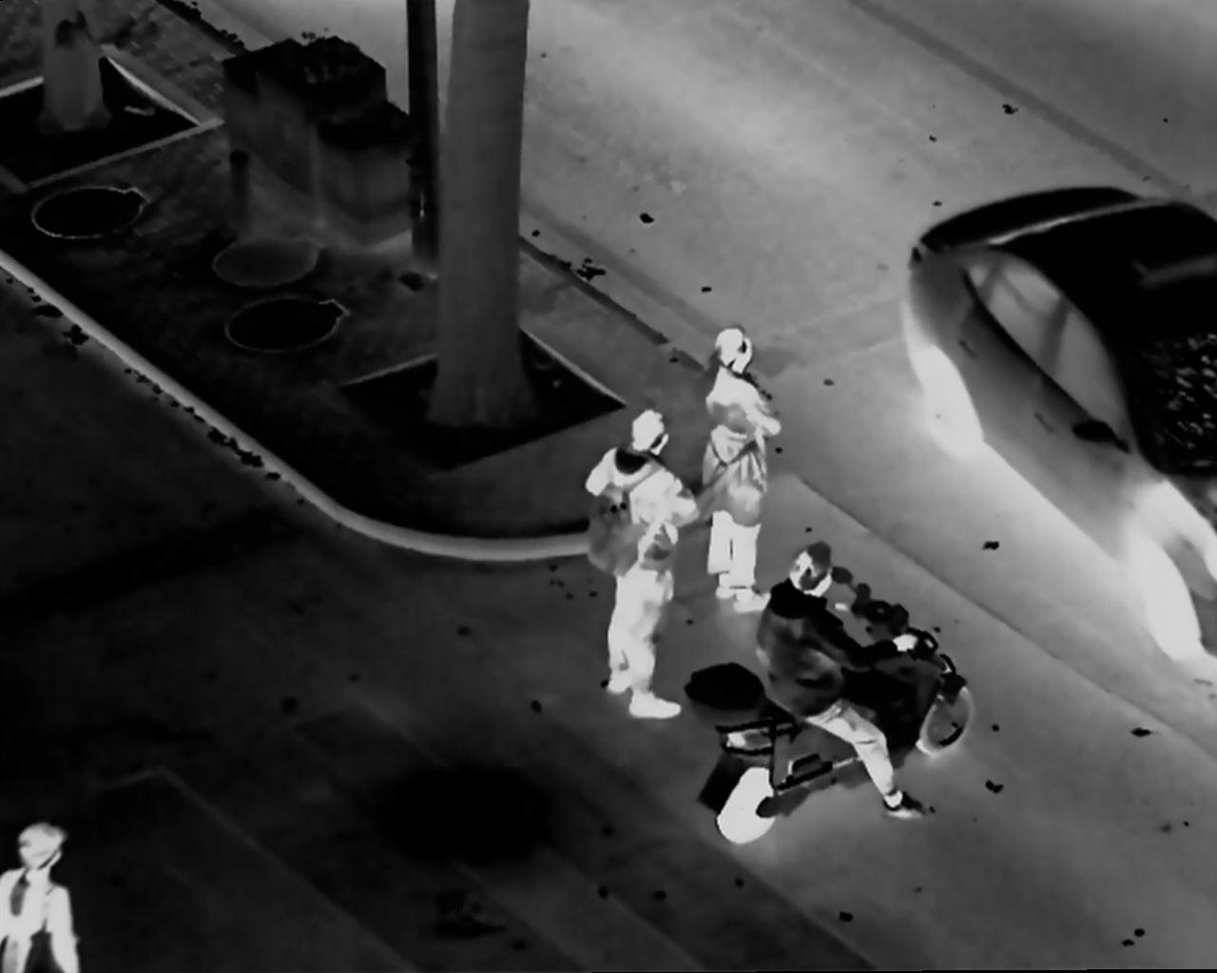person: (763, 541, 943, 824), (579, 410, 689, 721), (695, 322, 782, 618)
